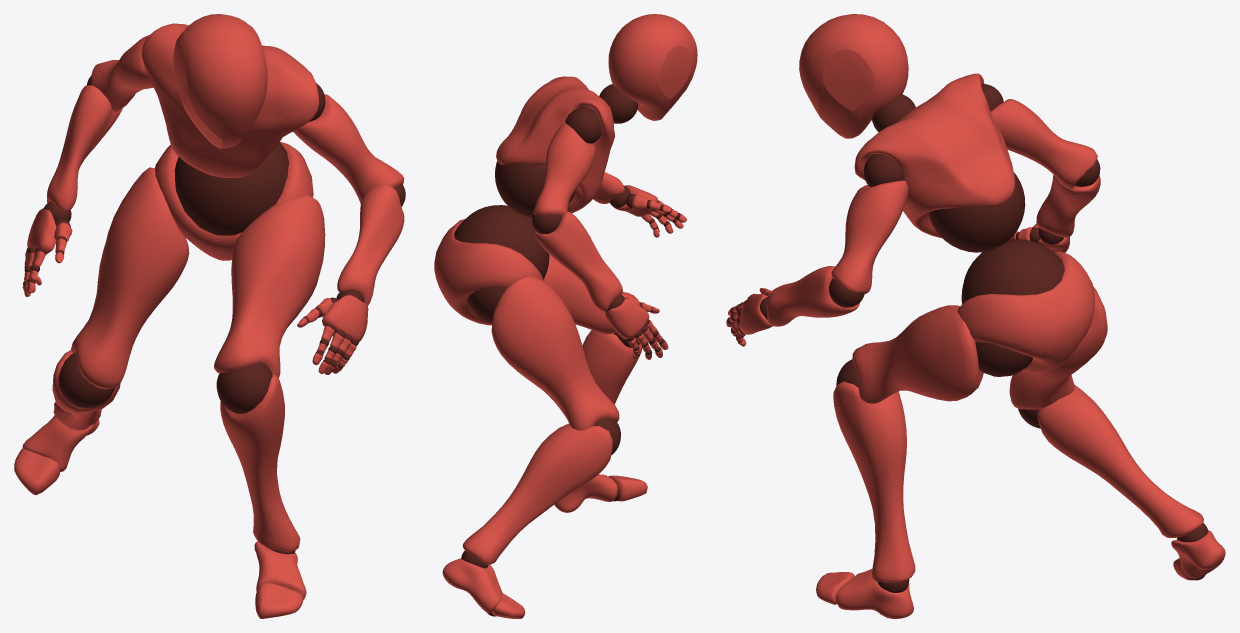
3 views of the same model, side by side, from view 1: azimuth 30°, elevation 25°; view 2: azimuth 150°, elevation 25°; view 3: azimuth 270°, elevation 25° (orthographic). The views are drawn at different scales.
Parts seen in each view (by area): view 1: Beta_Surface, Beta_Joints; view 2: Beta_Surface, Beta_Joints; view 3: Beta_Surface, Beta_Joints.
Boxes of the visible parts, x1,y1,x2,y2 form: Beta_Surface: (14,14,404,618); Beta_Joints: (23,76,405,554); Beta_Surface: (434,14,697,618); Beta_Joints: (454,84,680,616); Beta_Surface: (726,14,1225,618); Beta_Joints: (727,84,1208,592).
Size of the model in its own units: 0.6859 by 1.38 by 1.11.
